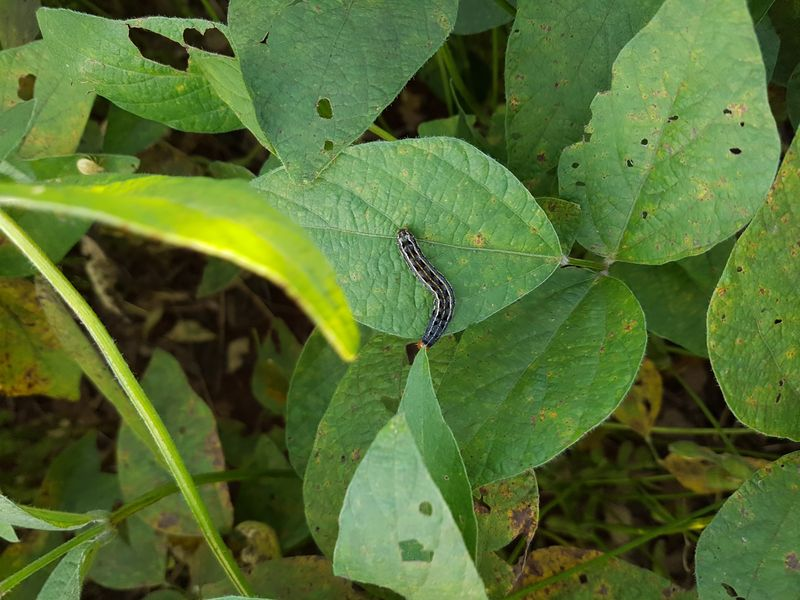Euschistus_heros_ninfa: (70, 149, 111, 185)
Spodoptera_albula: (370, 220, 477, 360)
